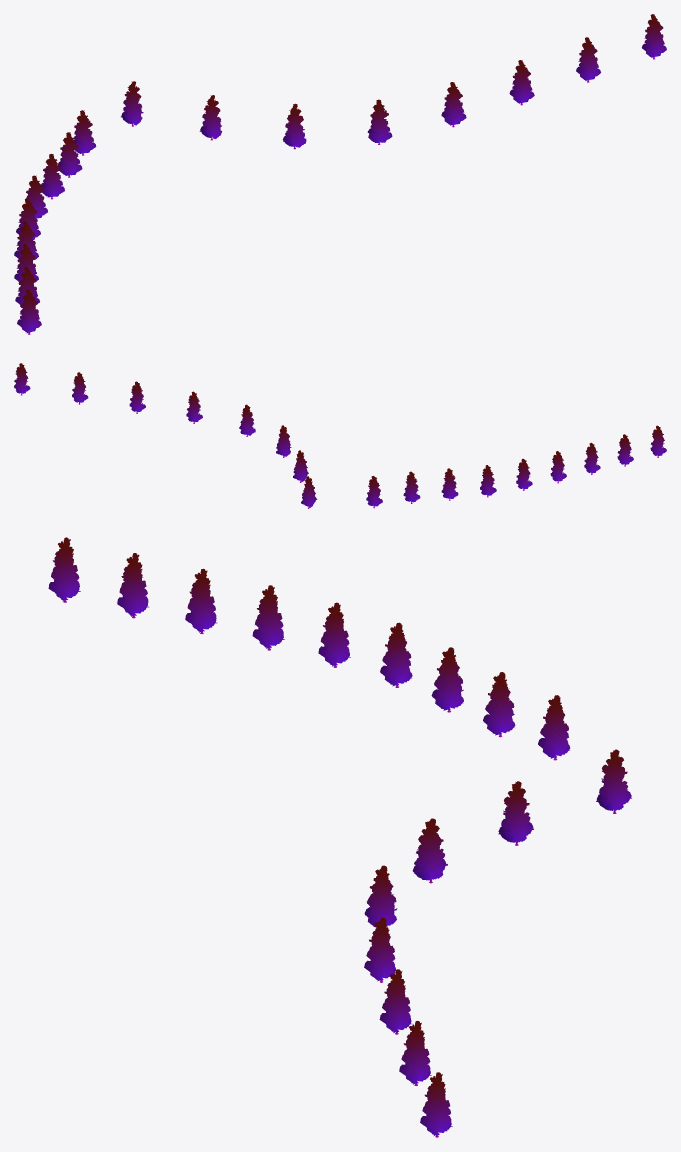
The model's file is Treeroad 1.fbx.
3 views of the same model, one above another, from view 1: azimuth 30°, elevation 25°; view 2: azimuth 150°, elevation 25°; view 3: azimuth 270°, elevation 25° (orthographic). The views are drawn at different scales.
Parts seen in each view (by area): view 1: Tree3; view 2: Tree3; view 3: Tree3.
Part boxes in pixels (x1,y1,x2,y2): Tree3: (14, 14, 666, 334); Tree3: (14, 363, 666, 508); Tree3: (48, 537, 631, 1137).
Size of the model in its own units: 19799 by 1154 by 8958.
